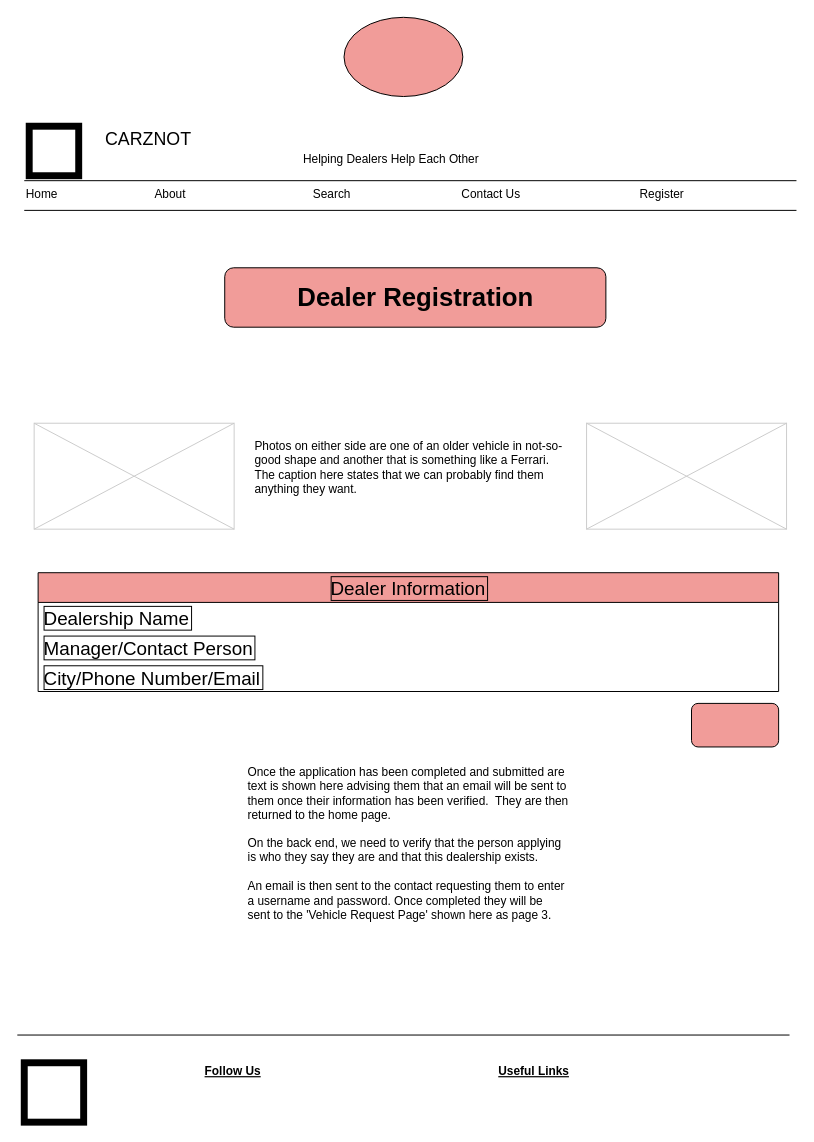
Some shapes in this 814 by 1142 pixel diagram are drawn without their labels. The centre of each missing label's shape, as x and y in pixels:
Registration Page 2: (x=403, y=56)
Submit: (x=735, y=724)
